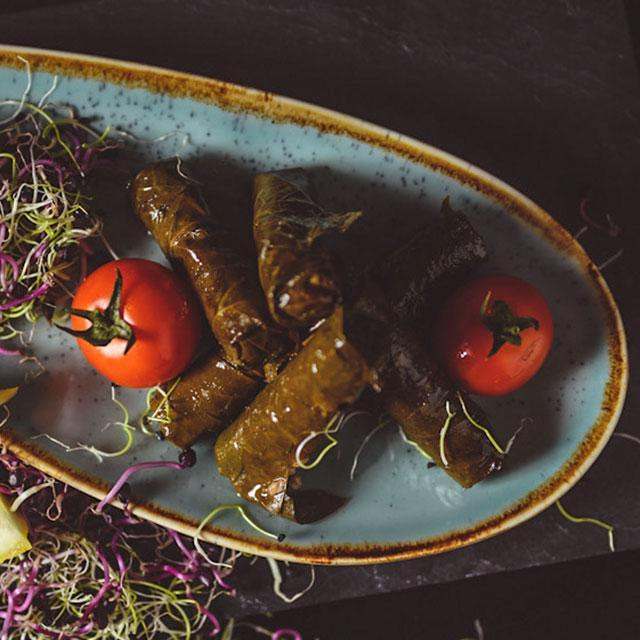wara enab: (159, 172, 478, 495)
